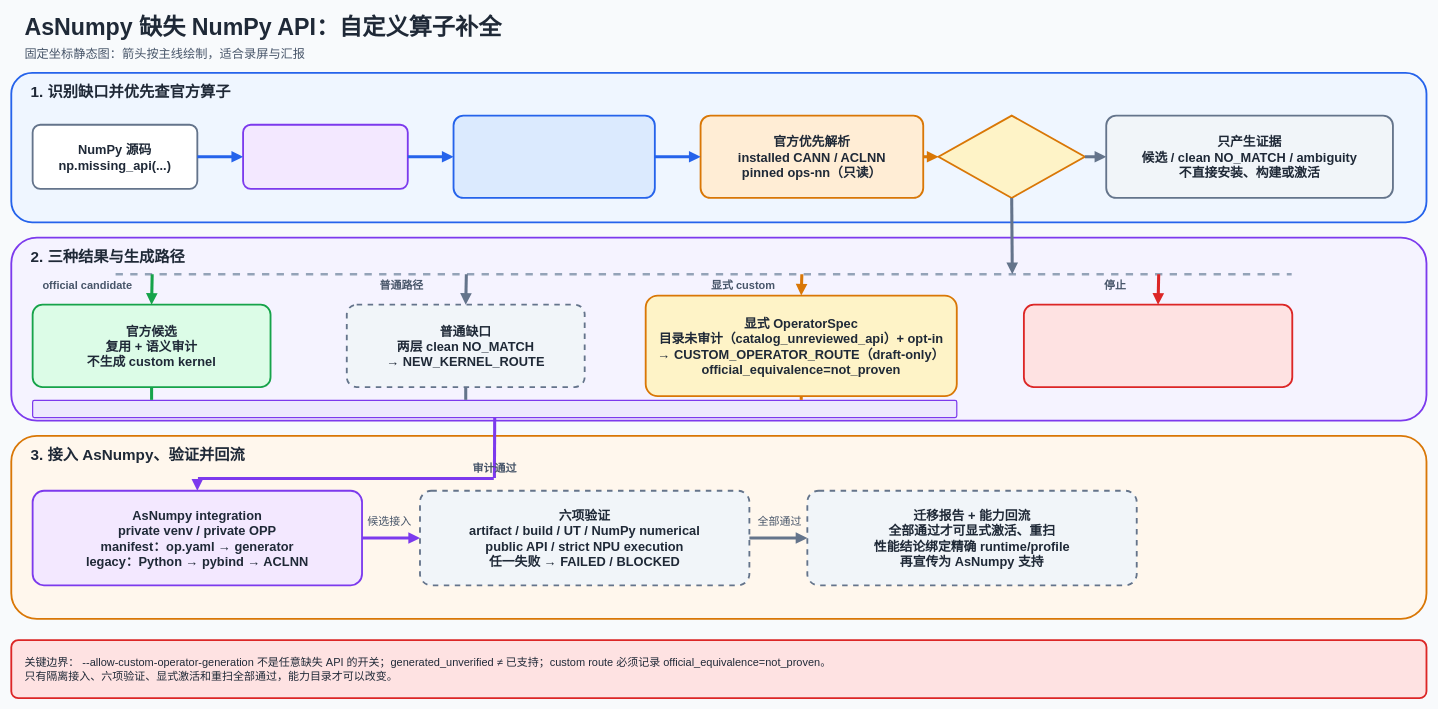
Some shapes in this 1438 by 709 pixel diagram are drawn without their labels. Here are the shapes that lost their labels. From the top down, the box of each, then its label:
(242, 124, 408, 189): GAP_REQUIRED AsNumpy 没有该 API
(452, 114, 655, 199): GapSpec + oracle signature / dtype / shape SoC / CANN 绑定
(937, 114, 1085, 199): 结果分流
(1023, 303, 1293, 388): 其他结果 歧义 / 错误 / 漂移 REVIEW_REQUIRED / BLOCKED
(32, 400, 957, 418): 通过审计的路径 → 进入隔离接入（官方复用或 custom draft）
